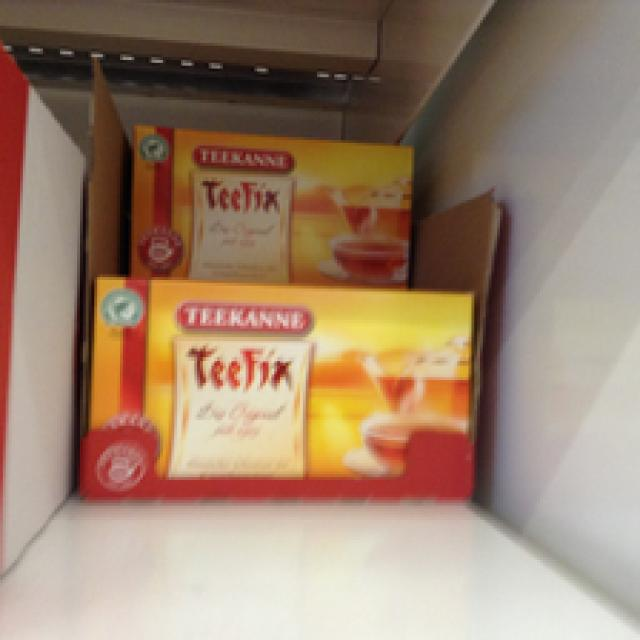groceries: (83, 272, 477, 474), (126, 117, 411, 280)
